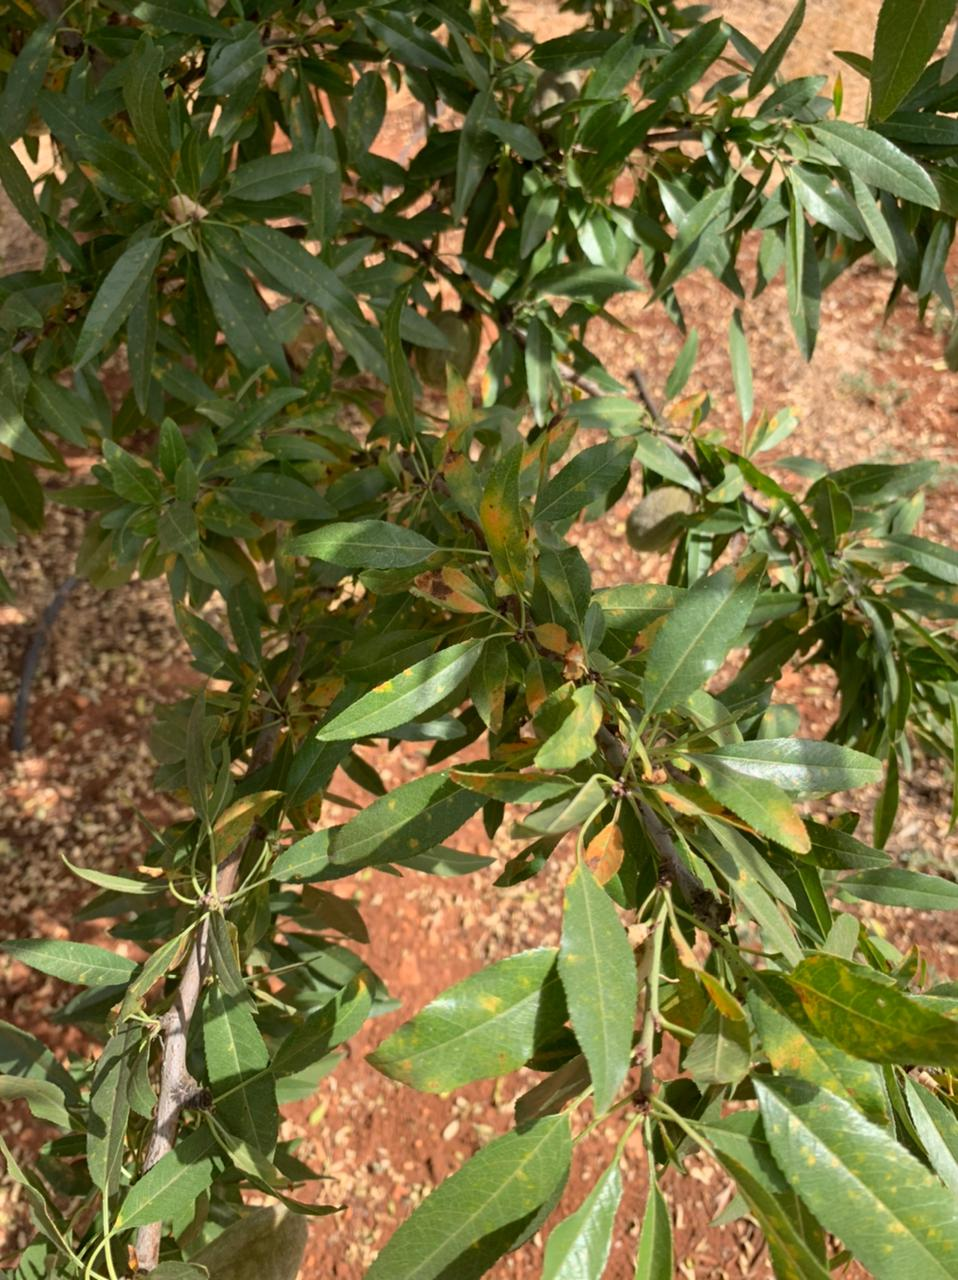polystigma: (362, 944, 571, 1098), (641, 548, 773, 717), (327, 761, 514, 875), (785, 956, 958, 1068), (310, 635, 485, 744), (558, 867, 633, 1117), (679, 752, 814, 856), (475, 441, 536, 600)
